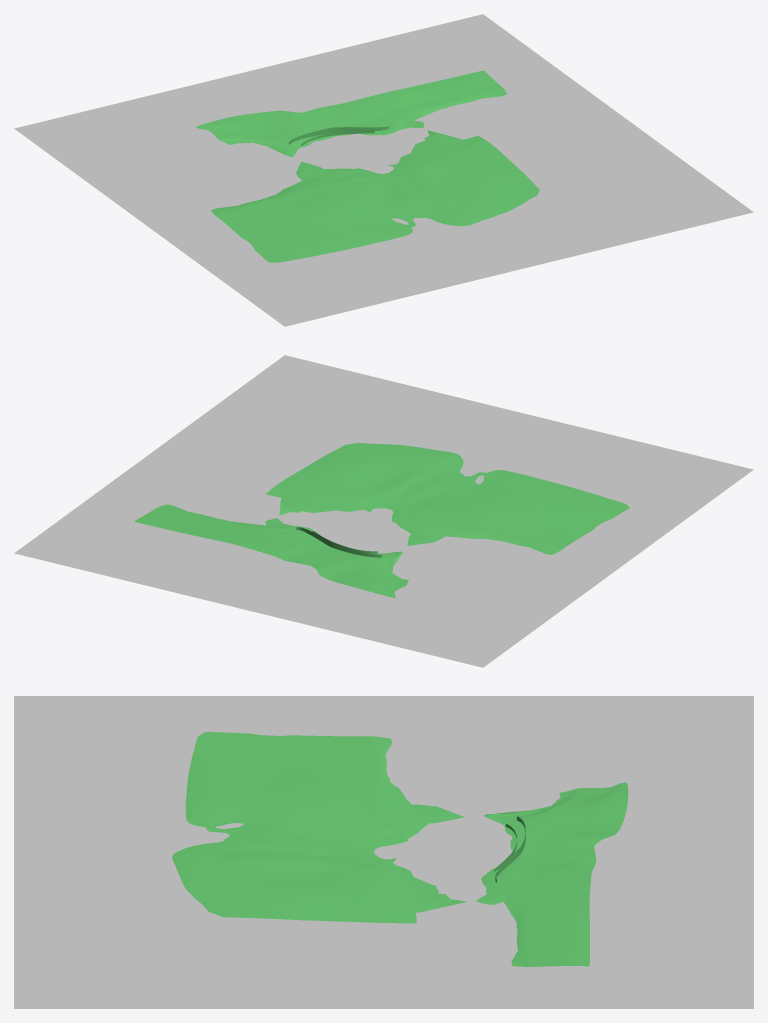
Rendered from enviornmenttake2.obj.
3 views of the same model, one above another, from view 1: azimuth 30°, elevation 25°; view 2: azimuth 150°, elevation 25°; view 3: azimuth 270°, elevation 25° (orthographic). The views are drawn at different scales.
Visible parts, largest first — view 1: Plane, Landscape.001, Landscape.002, BézierCurve; view 2: Plane, Landscape.001, Landscape.002; view 3: Plane, Landscape.001, Landscape.002.
Part boxes in pixels (box(x1,y1,x2,y2)): Plane: box(14, 14, 753, 326); Landscape.001: box(211, 130, 539, 262); Landscape.002: box(195, 70, 506, 157); BézierCurve: box(288, 126, 388, 146); Plane: box(14, 355, 753, 667); Landscape.001: box(266, 443, 629, 554); Landscape.002: box(134, 504, 408, 597); Plane: box(14, 696, 753, 1008); Landscape.001: box(172, 732, 466, 923); Landscape.002: box(476, 782, 628, 966).
Bounding box in the file's own units: 160 × 3.08 × 160.
